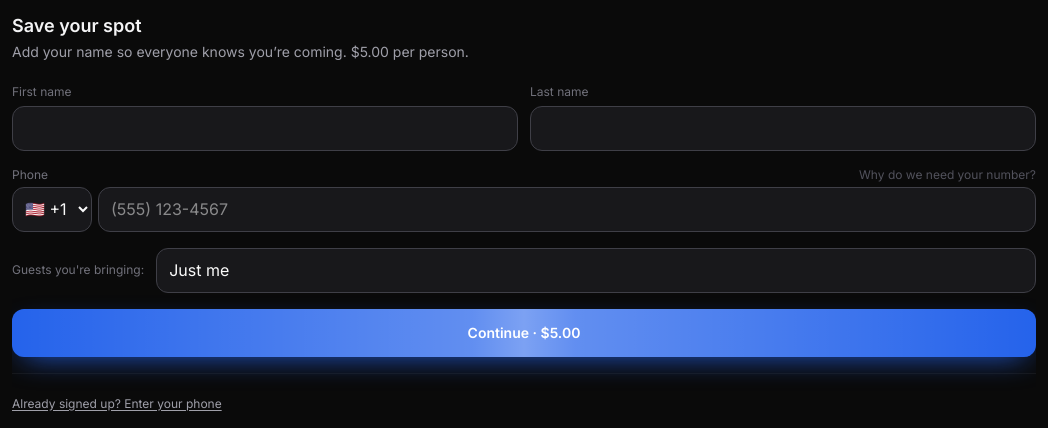
Test: JoinSection "Not you?" flow › updates the new-user continue CTA total when guests change
Expected: the button "Continue · $5.00" is shown, [12,308,1036,356]
Select "2 guests" in the dropdown labelled "Guests you're bringing:". click: (596, 270)
box: [156,248,1036,292]
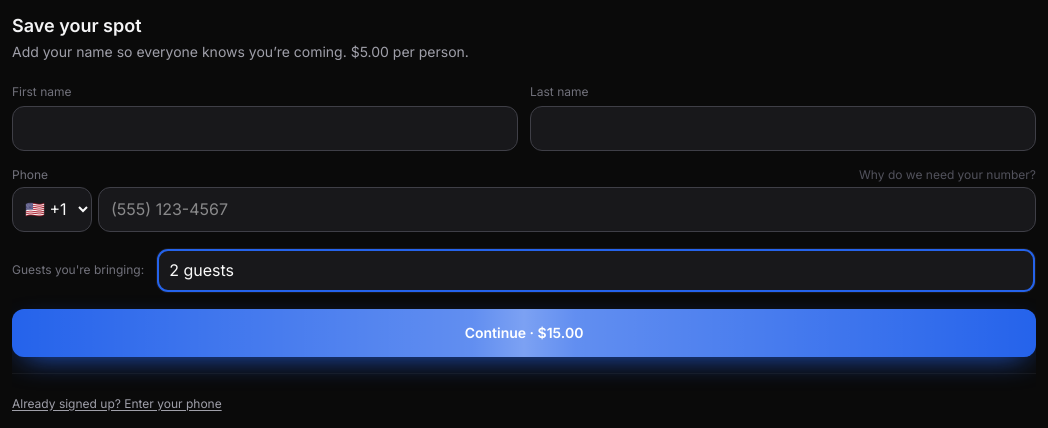
Expected: the button "Continue · $15.00" is shown, [12,308,1036,356]
